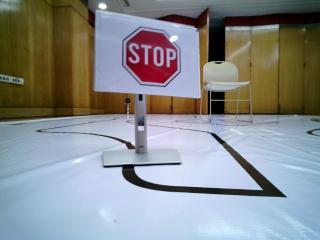stop: (107, 19, 202, 92)
